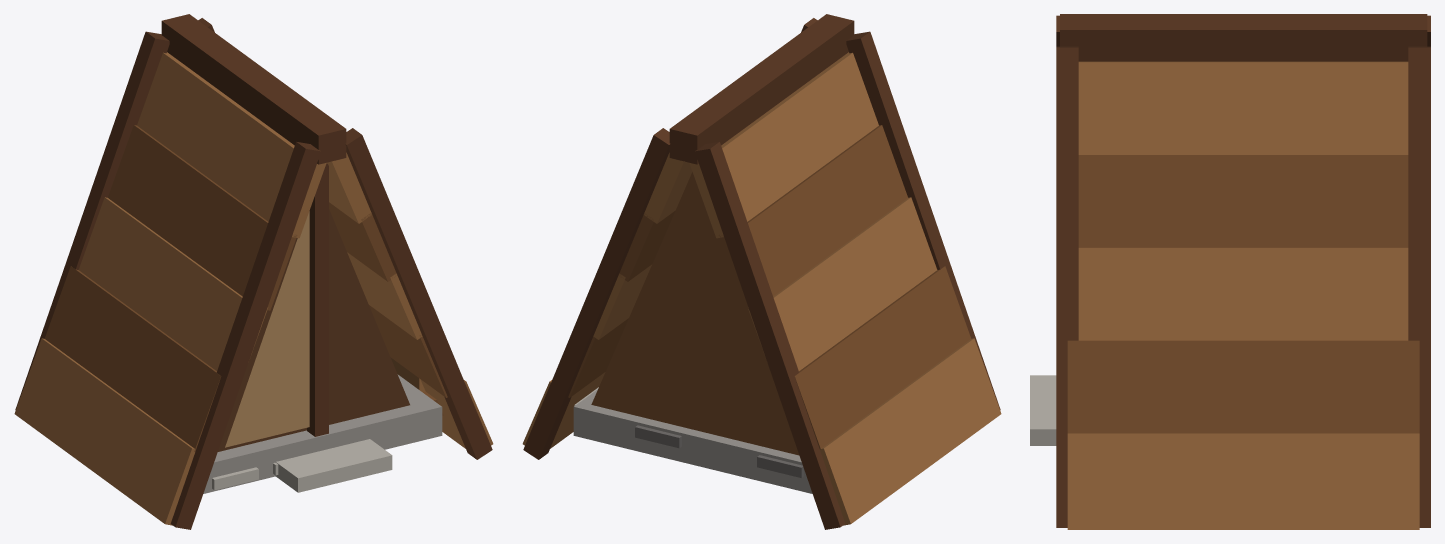
The model's file is shelter_3.glb.
The picture shows the model from 3 angles, left to right: view 1: azimuth 30°, elevation 25°; view 2: azimuth 150°, elevation 25°; view 3: azimuth 270°, elevation 25°; orthographic projection. The views are drawn at different scales.
Parts seen in each view (by area): view 1: roof_plank, roof_plank_mid, timber, opening, hide, ridge, footing, stone_light; view 2: roof_plank, roof_plank_mid, plank_dark, timber, ridge, footing, stone_dark; view 3: roof_plank, roof_plank_mid, timber, ridge, stone_light.
Boxes of the visible parts, x1,y1,x2,y2 form: roof_plank: (14, 52, 493, 525); roof_plank_mid: (44, 125, 447, 451); timber: (15, 18, 492, 529); opening: (218, 209, 409, 451); hide: (225, 211, 309, 447); ridge: (161, 14, 346, 164); footing: (203, 374, 442, 493); stone_light: (212, 439, 392, 492); roof_plank: (522, 52, 1001, 525); roof_plank_mid: (568, 125, 971, 449); plank_dark: (591, 172, 799, 455); timber: (523, 18, 1000, 529); ridge: (669, 14, 854, 164); footing: (573, 389, 812, 493); stone_dark: (635, 425, 803, 477); roof_plank: (1067, 61, 1419, 529); roof_plank_mid: (1067, 155, 1419, 433); timber: (1056, 15, 1430, 527); ridge: (1060, 14, 1427, 61); stone_light: (1030, 375, 1056, 445).
Size of the model in its own units: 1.18 by 1.25 by 1.07.
